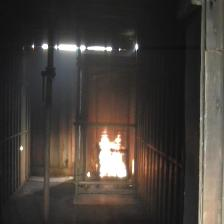fire: (98, 128, 127, 178)
